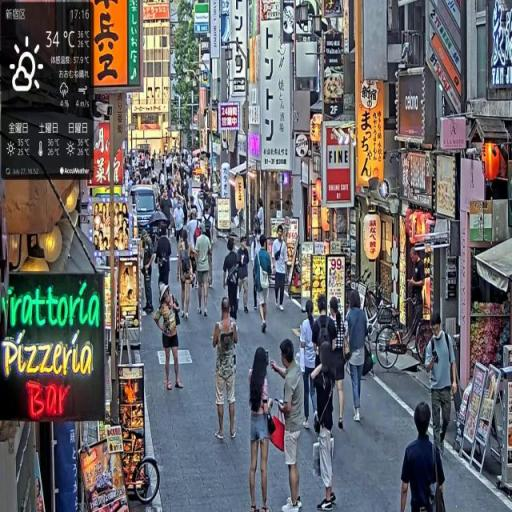person: (269, 340, 308, 512), (400, 400, 448, 512), (249, 345, 280, 512), (424, 312, 459, 459), (310, 341, 340, 511), (213, 296, 240, 443), (344, 290, 369, 425), (327, 295, 349, 433), (157, 287, 184, 392), (300, 301, 320, 428), (256, 235, 275, 336), (195, 224, 214, 321), (177, 229, 196, 323), (223, 237, 242, 324), (272, 228, 290, 312), (238, 236, 251, 316)
